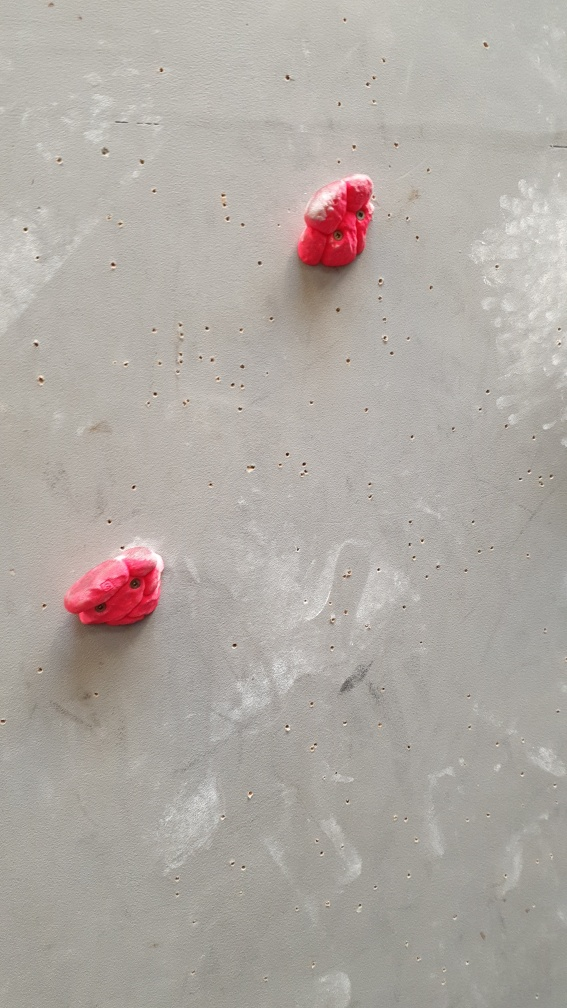Jug: (62, 541, 162, 630), (293, 172, 375, 274)
